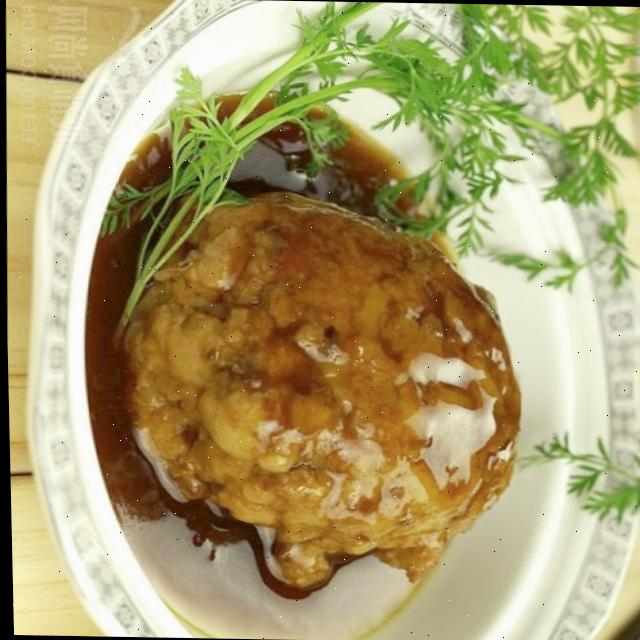猪肉菜式: (25, 43, 599, 633)
